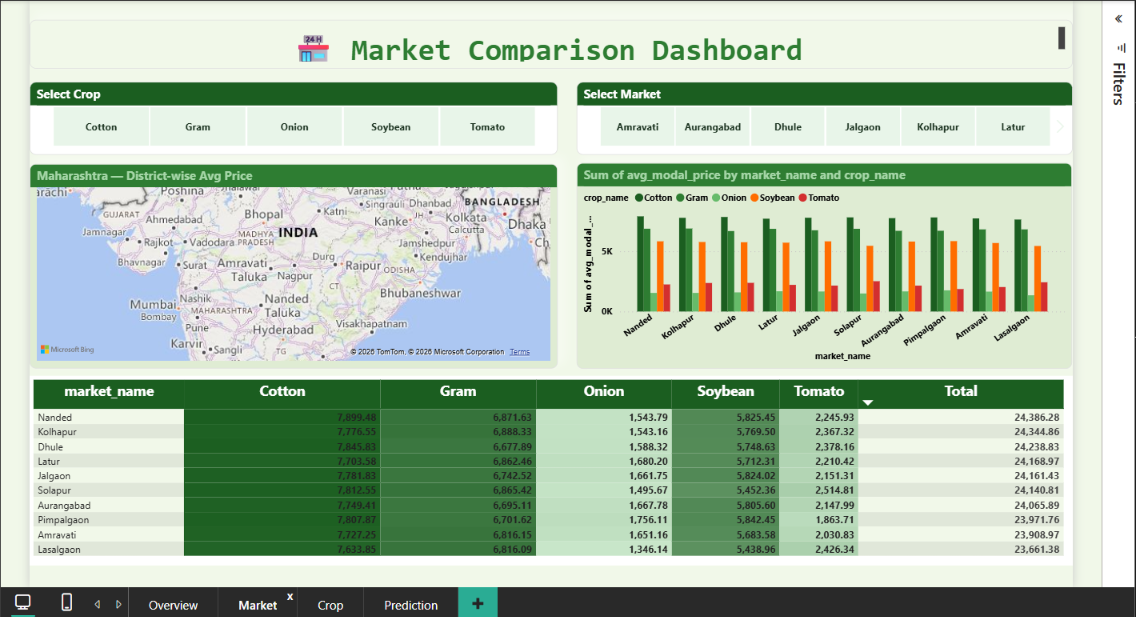

What the dashboard file says about the page in this screenshot:
{"tool":"powerbi","page":{"name":"Market","canvas":[1280,720],"ordinal":1},"visuals":[{"type":"textbox","box":[0,23.3,1279.8,60.1],"z":0},{"type":"map","title":"Maharashtra — District-wise Avg Price","fields":{"Category":["best_market_view.district"]},"box":[0,200.3,648.1,251.3],"z":1000},{"type":"clusteredColumnChart","fields":{"Category":["market_summary.market_name"],"Series":["market_summary.crop_name"],"Y":["Sum(market_summary.avg_modal_price)"]},"box":[671.7,199,608.3,252.5],"z":2000},{"type":"slicer","title":"Select Crop","fields":{"Values":["crop_prices.crop_name"]},"box":[0,99.5,648.1,89.6],"z":3000},{"type":"slicer","title":"Select Market","fields":{"Values":["best_market_view.district"]},"box":[671.2,99.4,608.6,89.6],"z":4000},{"type":"pivotTable","fields":{"Columns":["market_summary.crop_name"],"Rows":["market_summary.market_name"],"Values":["Sum(market_summary.avg_modal_price)"]},"box":[0,460.1,1279.8,233.1],"z":5000}]}

Visuals, with their boxes on the page's 1280x720 design canvas (x1, y1, x2, y2). These are canvas units, not pixel positions in the 1136x617 screenshot, which may show the page scaled, cropped or inside an application window:
textbox: bbox(0, 23, 1280, 83)
"Maharashtra — District-wise Avg Price" map: bbox(0, 200, 648, 452)
clusteredColumnChart - market_summary.market_name x market_summary.crop_name: bbox(672, 199, 1280, 452)
"Select Crop" slicer: bbox(0, 100, 648, 189)
"Select Market" slicer: bbox(671, 99, 1280, 189)
pivotTable - market_summary.crop_name x market_summary.market_name: bbox(0, 460, 1280, 693)
